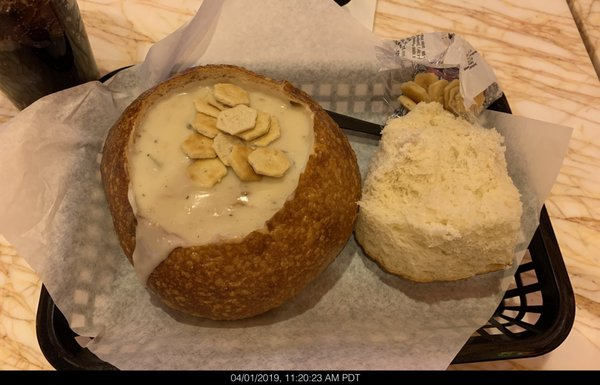curry: (27, 0, 599, 372)
salad: (99, 63, 362, 323)
sushi: (355, 101, 526, 283)
